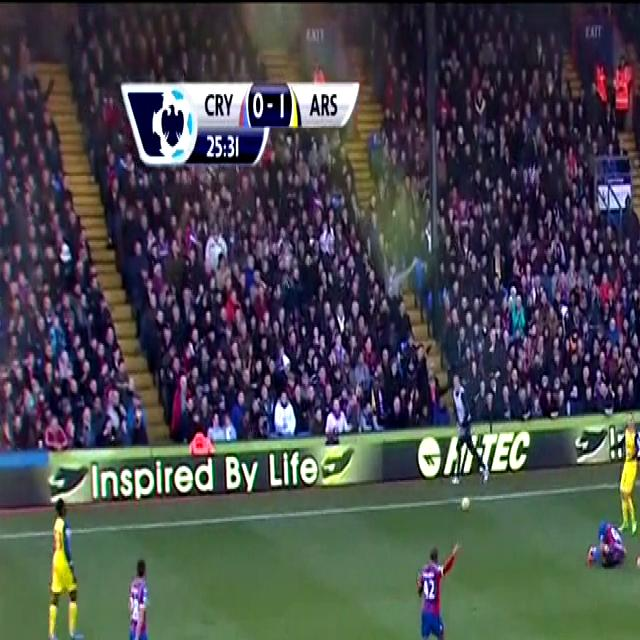ball: (454, 484, 478, 519)
soccer-player: (404, 537, 466, 640), (108, 560, 176, 640), (581, 513, 630, 577), (618, 409, 640, 529), (634, 487, 640, 640)
